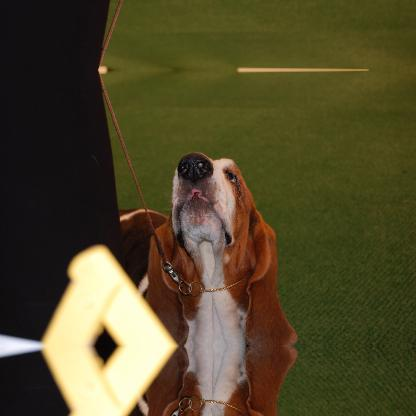Dog: (148, 152, 296, 344), (147, 346, 297, 415)
